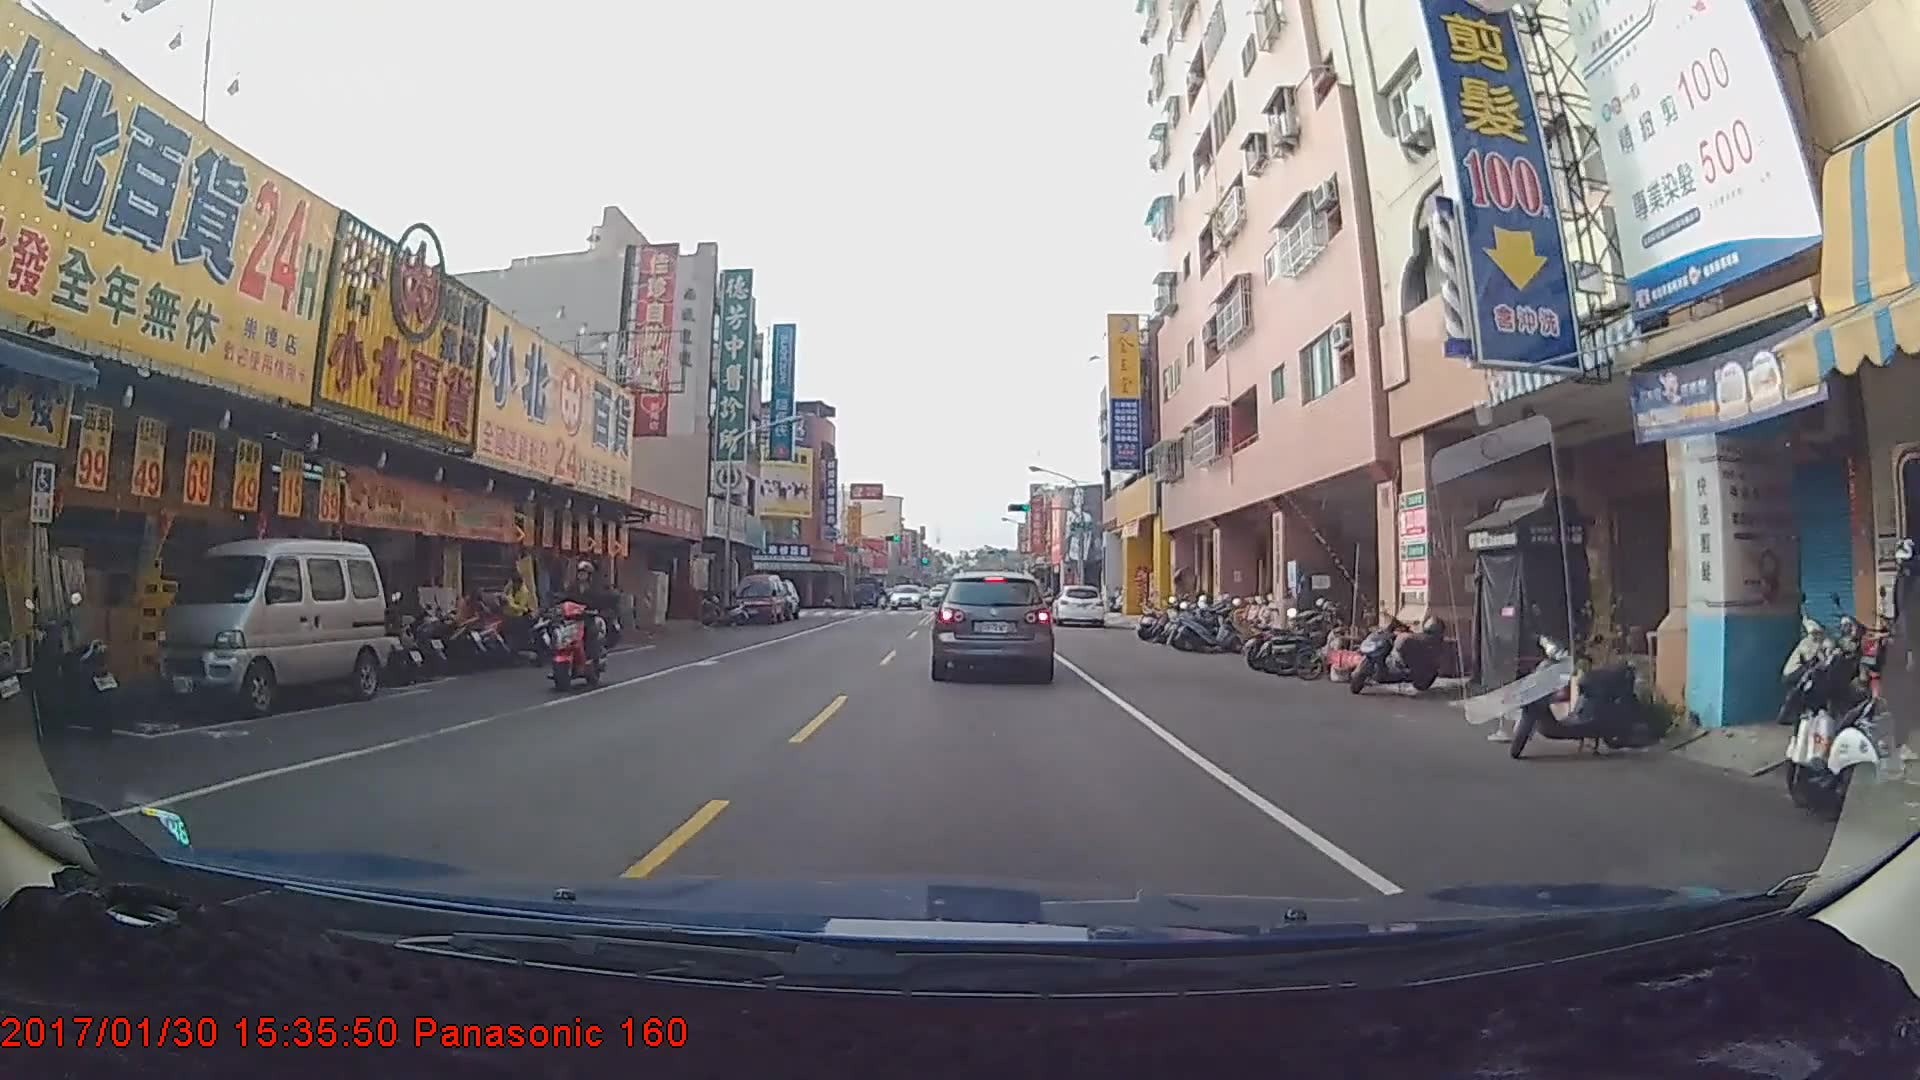pedestrian: (496, 573, 534, 658)
rider: (540, 558, 617, 697)
vehicle: (151, 542, 381, 718), (933, 567, 1053, 681), (732, 573, 785, 625), (1051, 585, 1105, 628), (888, 580, 919, 605)
